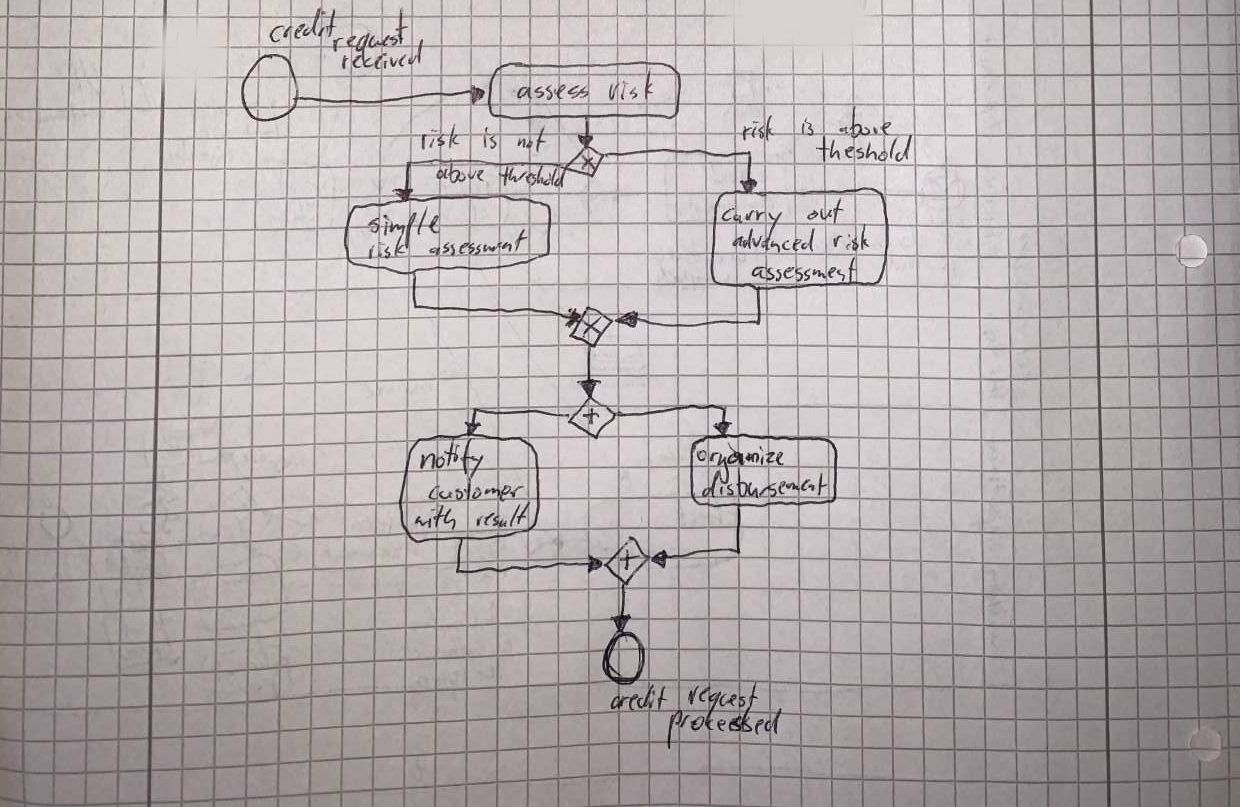above: (835, 100, 897, 143), (430, 157, 490, 188)
advanced: (728, 226, 822, 255)
assess: (514, 80, 593, 103)
assessment: (747, 256, 862, 286), (423, 229, 531, 260)
carry: (718, 202, 789, 241)
credit: (265, 5, 340, 47), (606, 682, 673, 714)
customer: (424, 474, 527, 506)
disbursement: (698, 468, 833, 502)
is: (478, 121, 503, 155), (794, 117, 820, 141)
not: (509, 121, 554, 156)
notify: (416, 435, 488, 482)
organize: (692, 443, 789, 488)
out: (801, 195, 851, 229)
processed: (664, 705, 787, 753)
received: (337, 36, 427, 74)
request: (328, 5, 414, 64), (683, 681, 763, 717)
result: (473, 499, 535, 531)
risk: (603, 66, 658, 105), (414, 121, 466, 155), (362, 229, 410, 264), (737, 112, 780, 147), (831, 223, 874, 255)
simple: (364, 204, 447, 252)
theshold: (814, 134, 917, 168)
threshold: (496, 162, 569, 192)
with: (412, 502, 460, 536)
